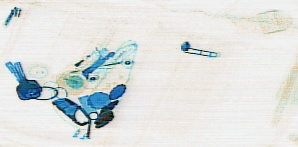lighter: (54, 43, 108, 91)
